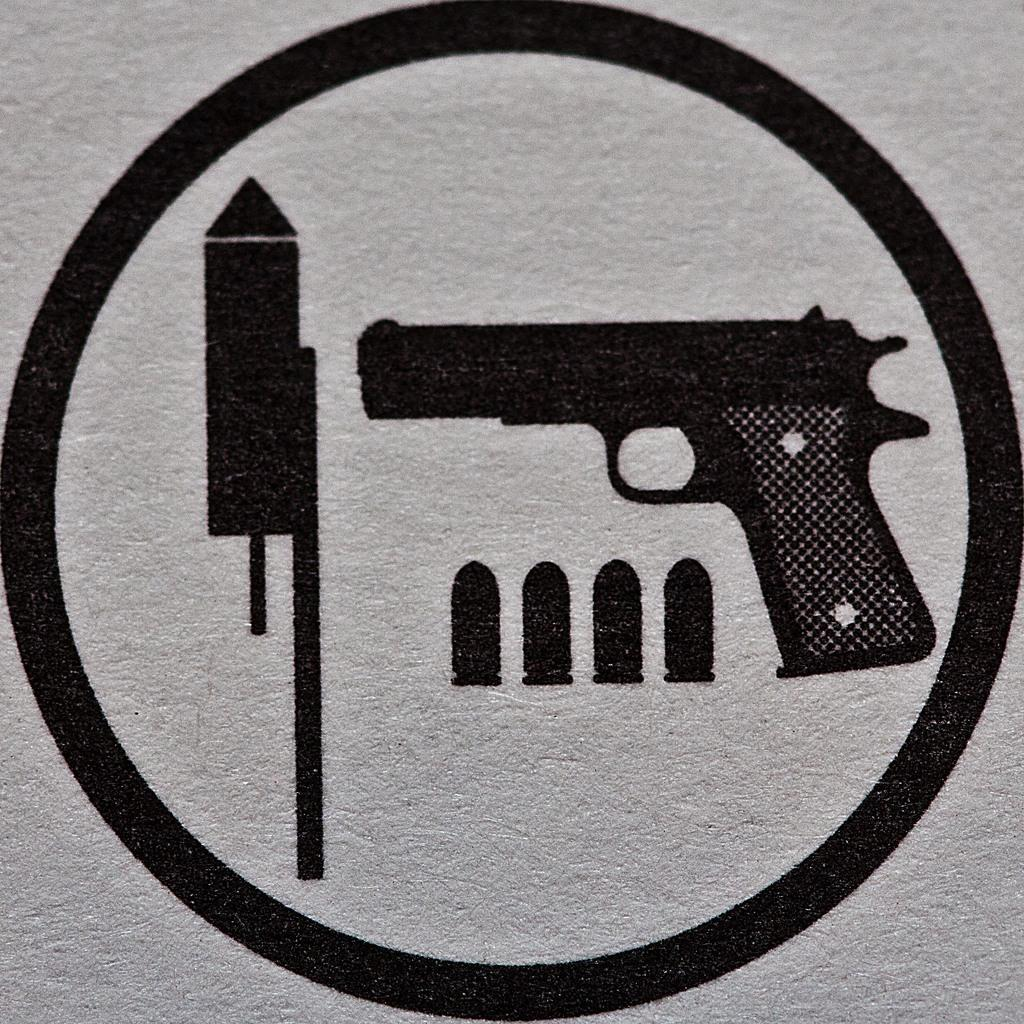Handgun: (356, 306, 940, 675)
